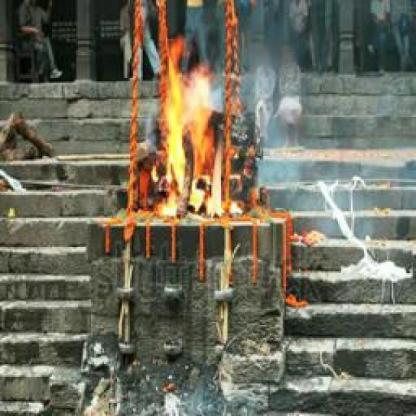fire: (158, 43, 228, 222)
